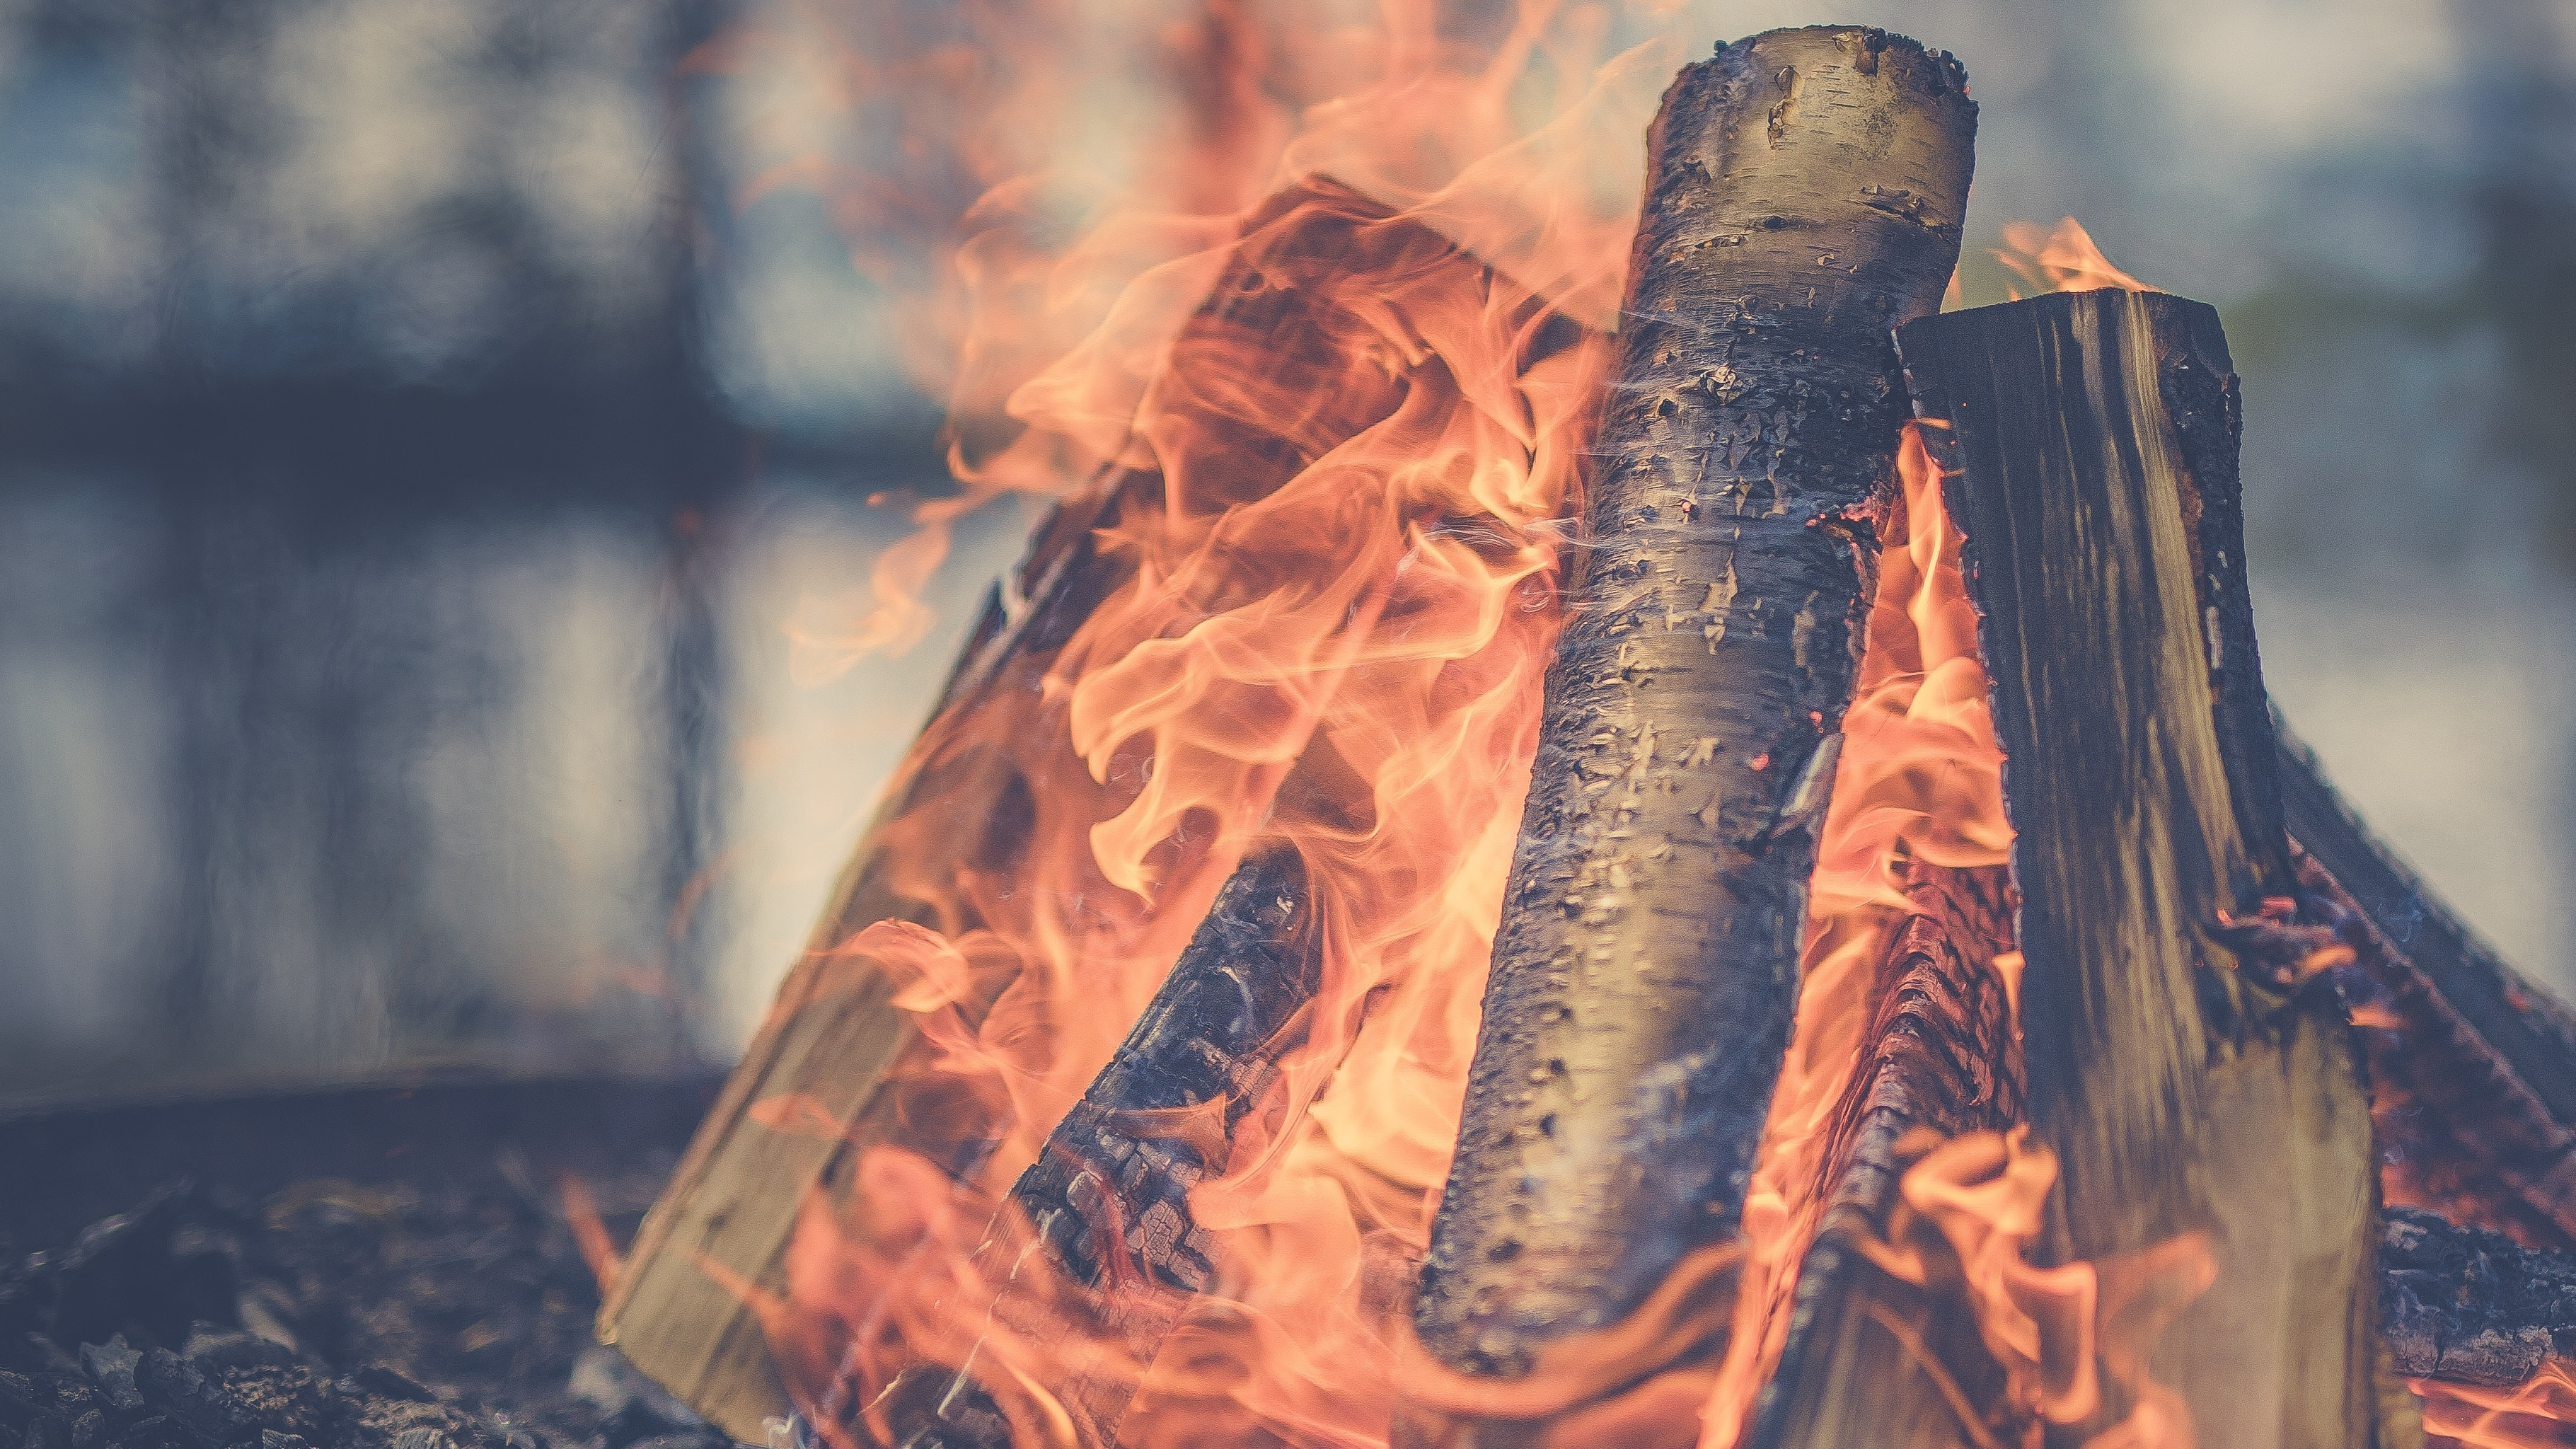fire: (640, 44, 2270, 1449)
